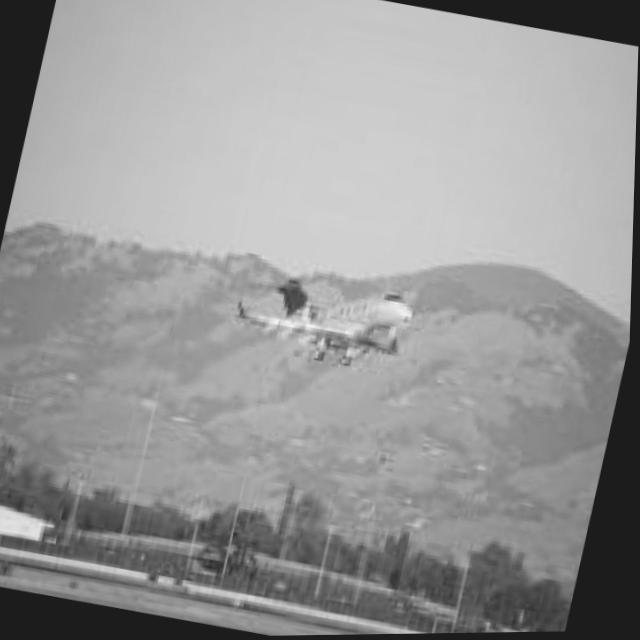aeroplane: (214, 240, 429, 386)
